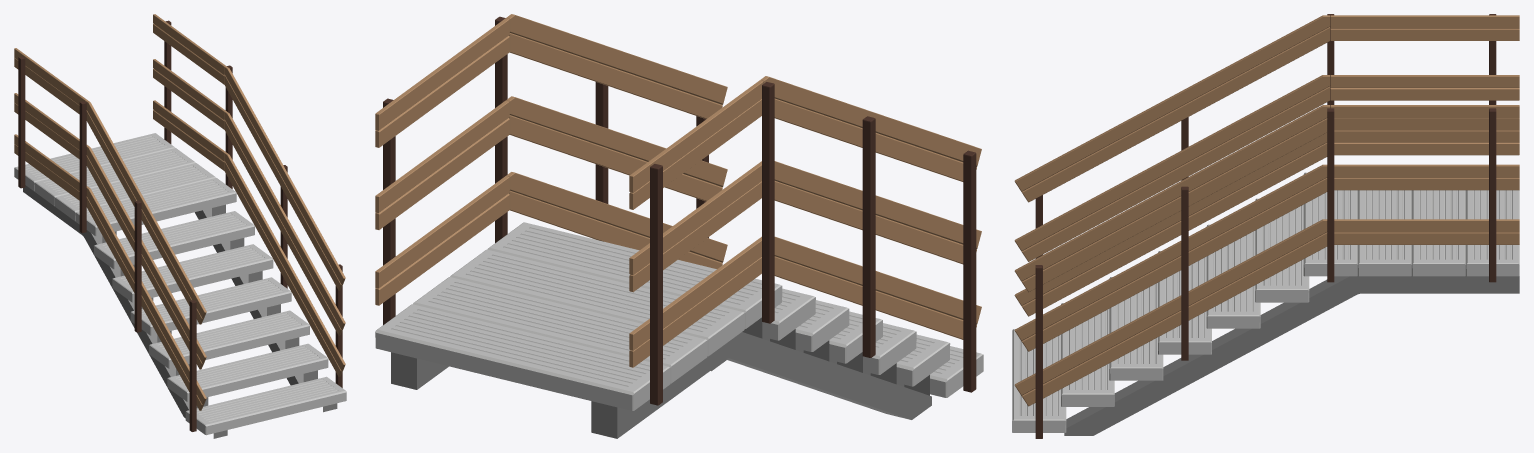
Rendered from sweethome3d-contributions-outdoor-staircase.glb.
3 views of the same model, side by side, from view 1: azimuth 30°, elevation 25°; view 2: azimuth 150°, elevation 25°; view 3: azimuth 270°, elevation 25° (orthographic). The views are drawn at different scales.
Visible parts, largest first — view 1: Stair069, Stair062, Stair055, Stair041, Stair034, Stair048, Stair, Bottom002, Stair007, Stair014, Stair021, Box089 (+32 smaller); view 2: Stair021, Bottom002, Stair014, Stair007, Stair, Box012, Box011, Box117, Box037, Box121, Box125, Box118 (+31 smaller); view 3: Bottom1, Box117, Box121, Box012, Box037, Box089, Box118, Box122, Box090, Box126, Box011, Box038 (+27 smaller).
Part boxes in pixels (x1,y1,x2,y2): Stair069: [185, 376, 346, 435]; Stair062: [167, 343, 328, 401]; Stair055: [149, 310, 309, 368]; Stair041: [112, 244, 273, 302]; Stair034: [93, 211, 254, 269]; Stair048: [130, 277, 291, 335]; Stair: [75, 178, 236, 236]; Bottom002: [23, 185, 227, 438]; Stair007: [55, 163, 216, 221]; Stair014: [34, 148, 195, 206]; Stair021: [14, 133, 175, 191]; Box089: [224, 152, 345, 370]; Stair021: [375, 304, 670, 410]; Bottom002: [591, 317, 931, 438]; Stair014: [413, 277, 707, 383]; Stair007: [450, 249, 744, 356]; Stair: [487, 222, 782, 328]; Box012: [506, 14, 727, 104]; Box011: [509, 33, 722, 119]; Box117: [760, 76, 981, 166]; Box037: [506, 96, 727, 186]; Box121: [760, 161, 981, 248]; Box125: [760, 236, 981, 324]; Box118: [774, 98, 976, 181]; Bottom1: [1064, 276, 1519, 435]; Box117: [1014, 15, 1330, 191]; Box121: [1014, 75, 1330, 251]; Box012: [1014, 105, 1330, 281]; Box037: [1014, 164, 1327, 340]; Box089: [1014, 219, 1327, 395]; Box118: [1021, 27, 1330, 202]; Box122: [1021, 86, 1330, 261]; Box090: [1021, 232, 1327, 406]; Box126: [1021, 142, 1327, 316]; Box011: [1022, 118, 1327, 292]; Box038: [1021, 178, 1327, 351].
Bounding box in the file's own units: 128 × 206 × 282.
